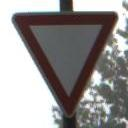speed_limit_120: (12, 12, 117, 116)
